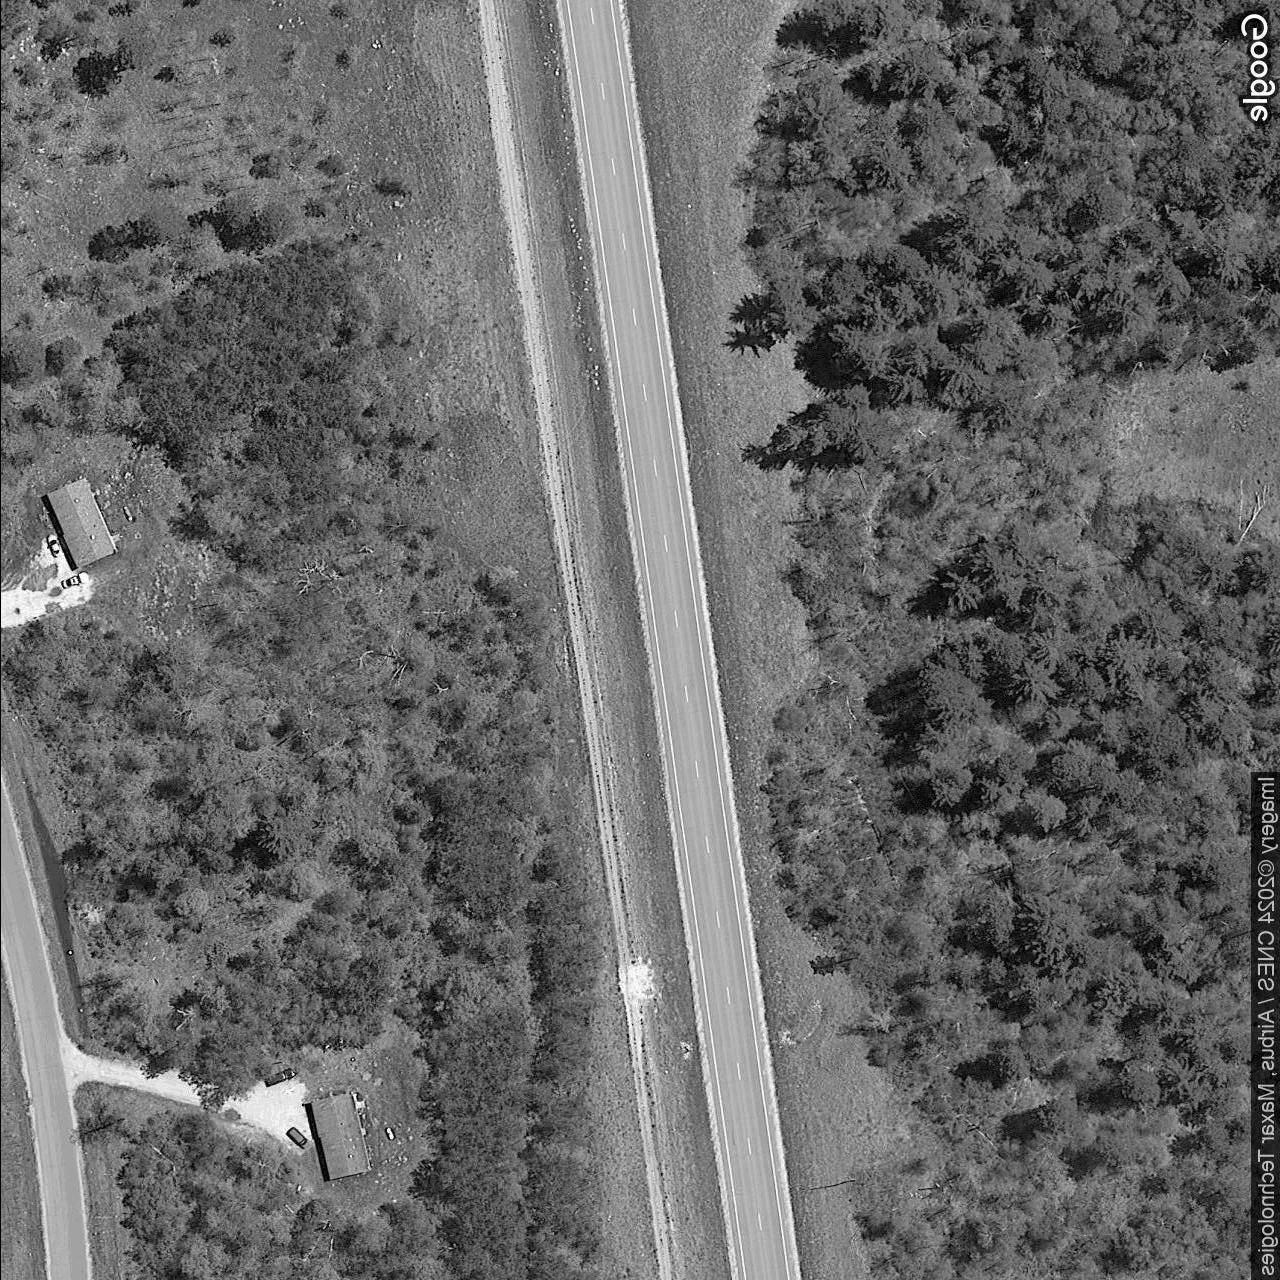House: (45, 477, 120, 570), (309, 1092, 373, 1182)
Propane: (120, 504, 136, 525), (381, 1124, 396, 1143)
